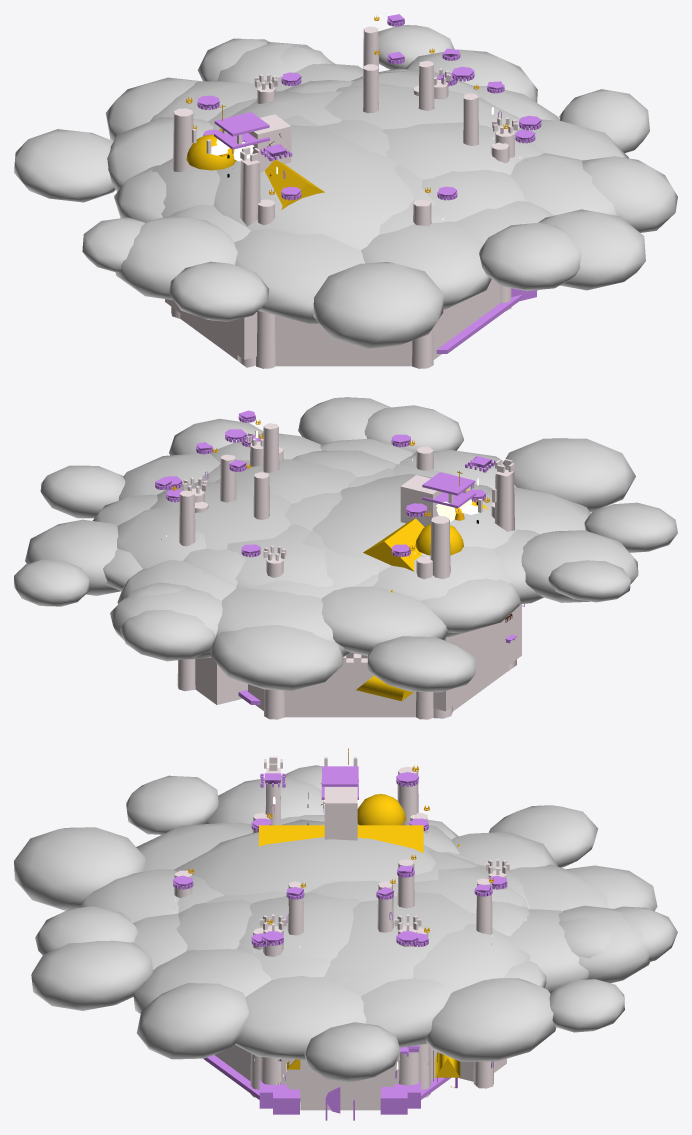
Rendered from fairytale_castle_med_compressed (3).glb.
3 renders of one model, top to bottom at view 1: azimuth 30°, elevation 25°; view 2: azimuth 150°, elevation 25°; view 3: azimuth 270°, elevation 25°, orthographic. The views are drawn at different scales.
Bounding box in the file's own units: 5422819 × 2187852 × 5331763.
